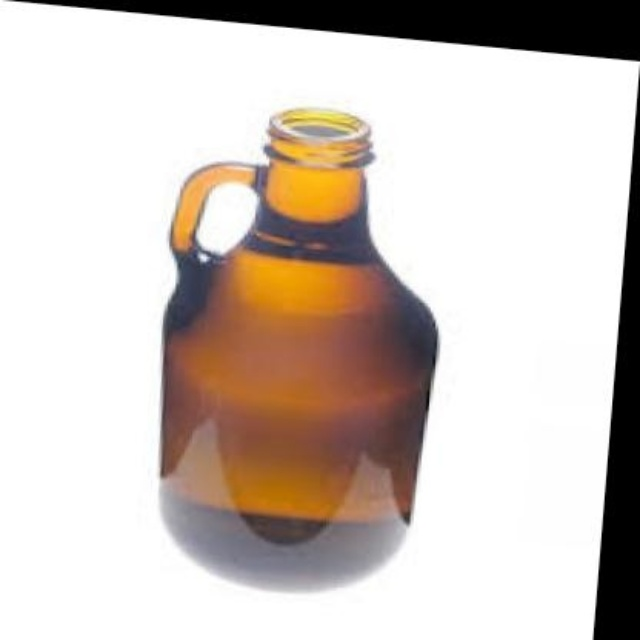trash: (162, 108, 435, 586)
